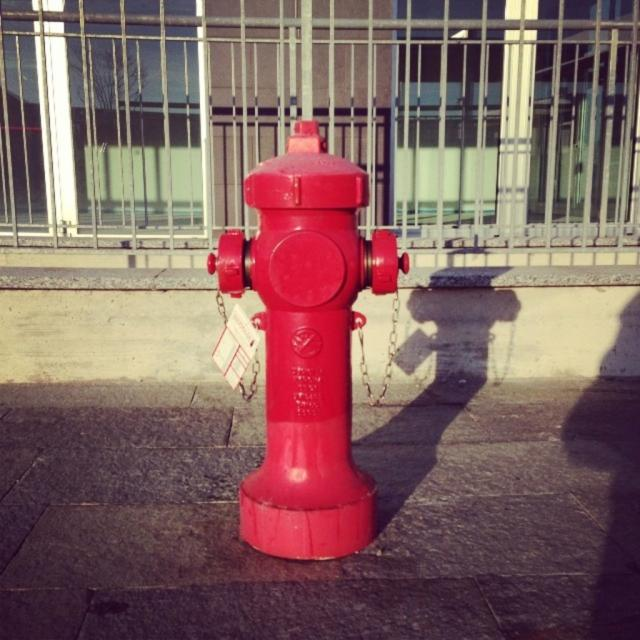fire_hydrant: (207, 121, 409, 563)
